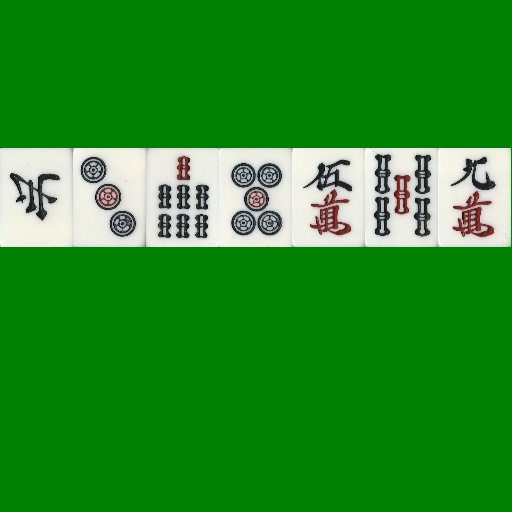3p: (73, 148, 146, 247)
5m: (292, 148, 365, 247)
5p: (219, 148, 292, 247)
5s: (365, 148, 438, 247)
7s: (146, 148, 219, 247)
9m: (438, 148, 511, 247)
north: (0, 148, 73, 247)
